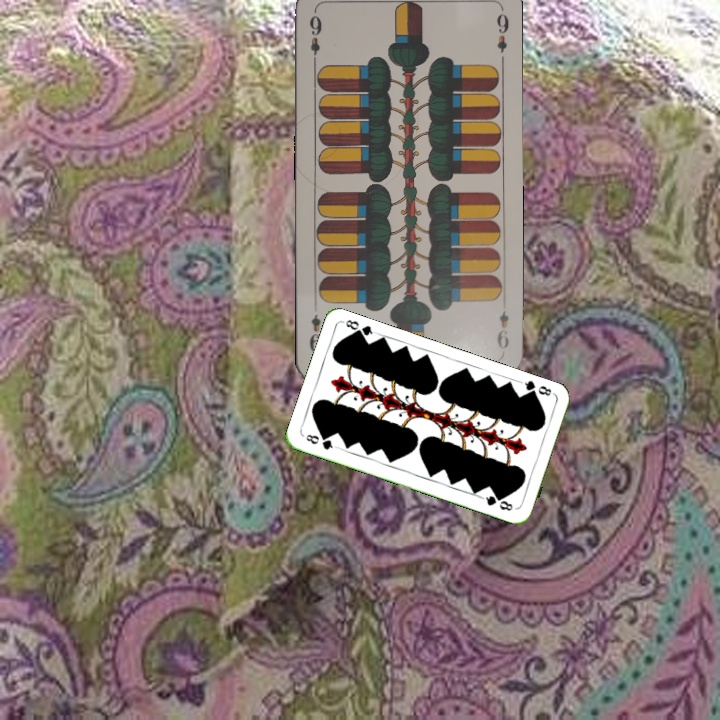E9: (306, 8, 325, 67), (493, 307, 511, 352)
G8: (518, 376, 557, 400), (302, 430, 339, 452)
